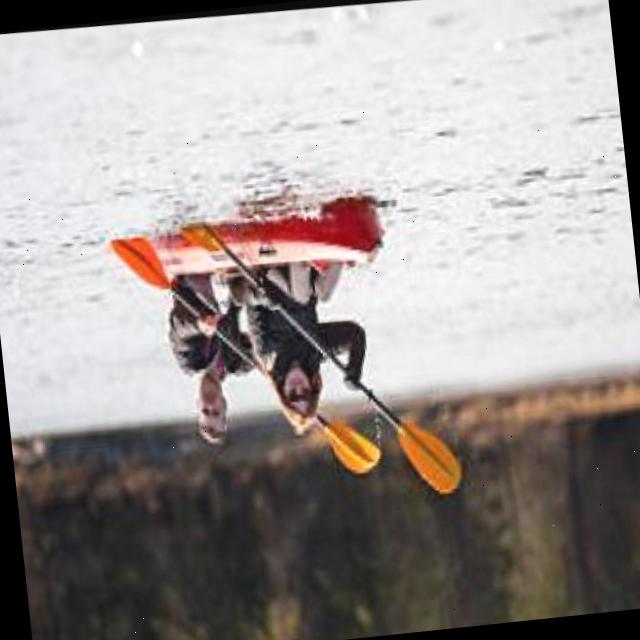kayak: (108, 197, 379, 288)
